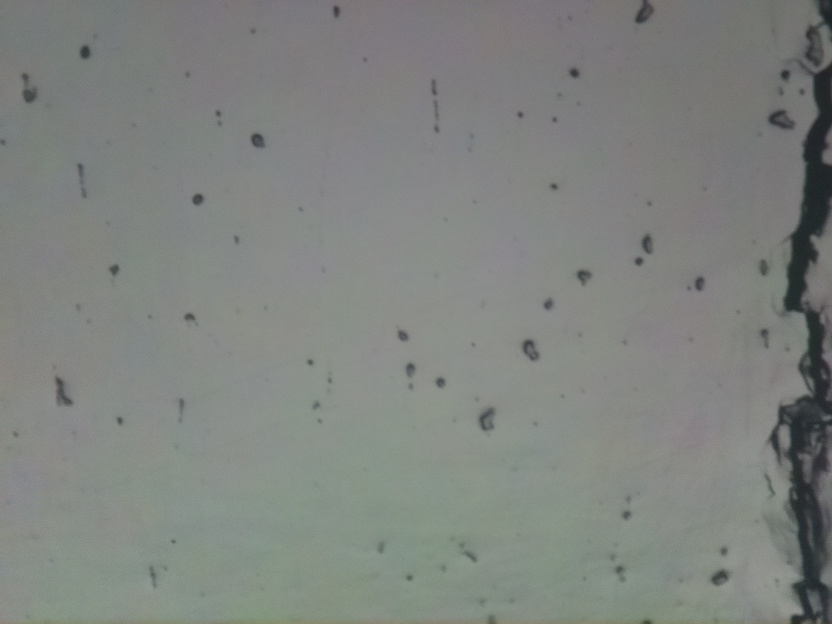crack: (783, 0, 832, 624)
